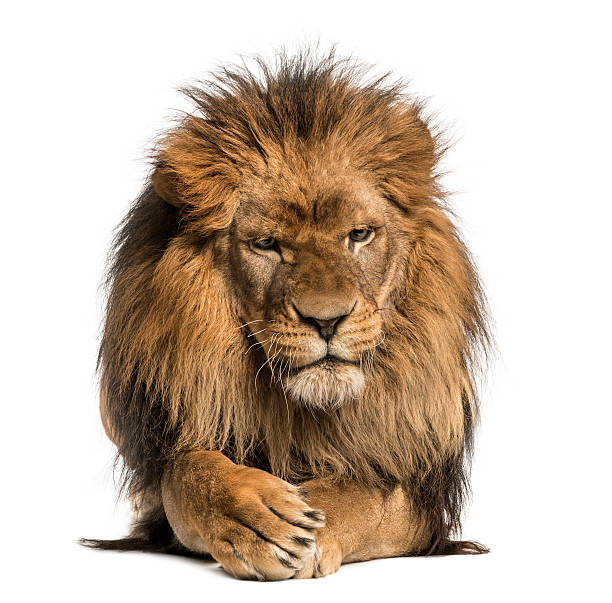lion: (92, 19, 511, 509)
